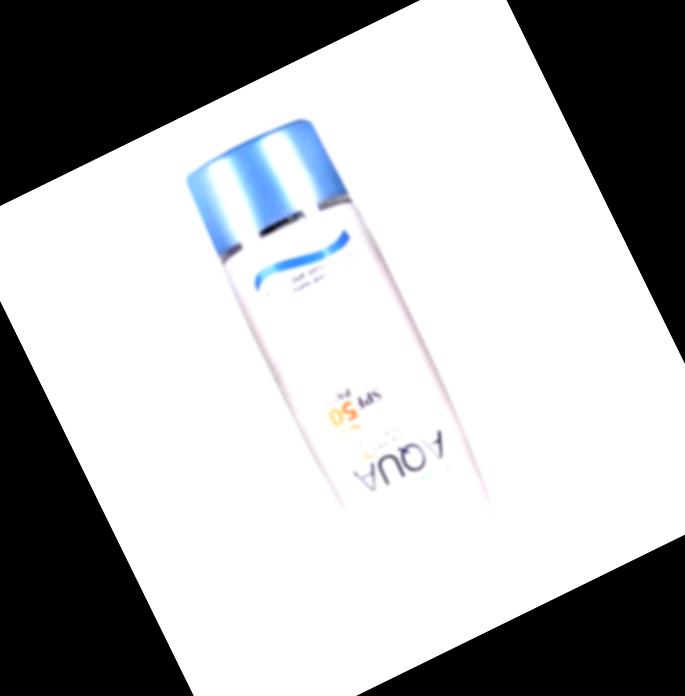cosmetic: (173, 110, 527, 619)
